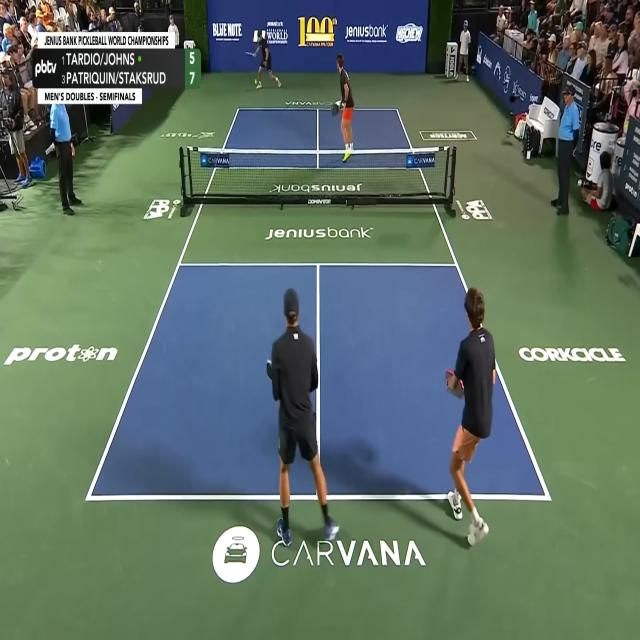ball: (254, 78, 257, 84)
